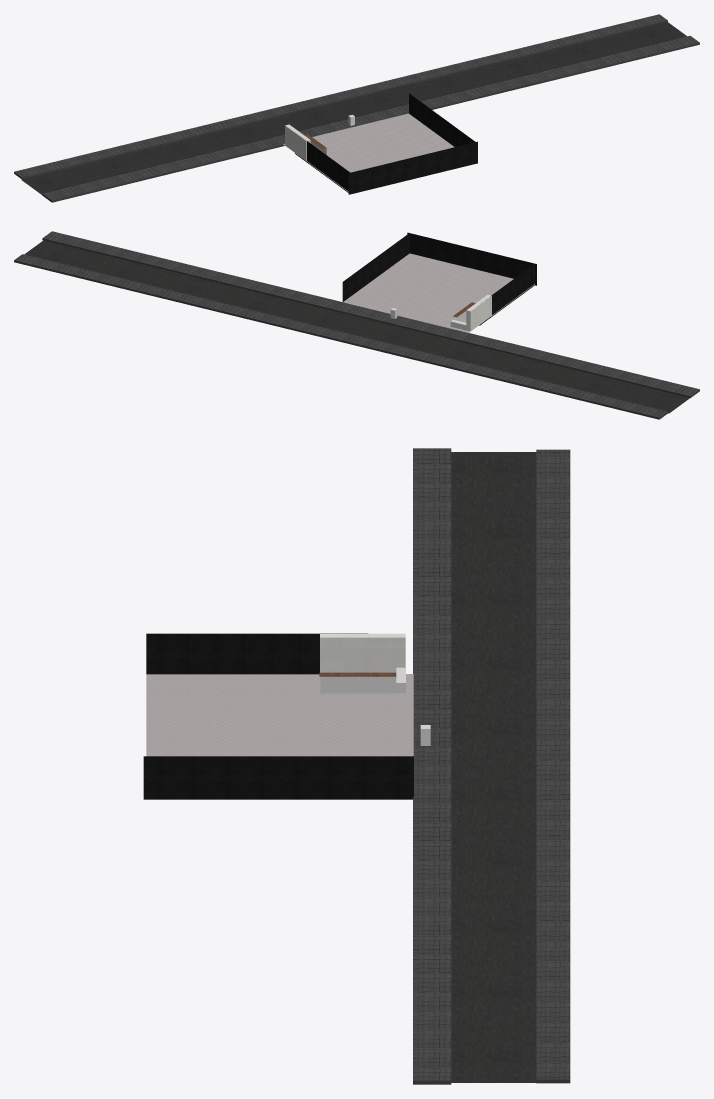
File: Sin_nombre.fbx
The picture shows the model from 3 angles, top to bottom: view 1: azimuth 30°, elevation 25°; view 2: azimuth 150°, elevation 25°; view 3: azimuth 270°, elevation 25°; orthographic projection. The views are drawn at different scales.
Visible parts, largest first — view 1: Calle, Bereda definitiva, La misma bereda, Piso Carre, Pared Negra.002, Pared Negra.001, Pared Negra, Pared blanca; view 2: Calle, Bereda definitiva, La misma bereda, Piso Carre, Pared Negra.002, Pared Negra.001, Pared Negra, Pared blanca; view 3: Calle, Bereda definitiva, La misma bereda, Piso Carre, Pared Negra.001, Pared Negra, Pared blanca, Cosa.
Part boxes in pixels (left/top/right/bottom): Calle: left=22, top=22, right=686, bottom=194; Bereda definitiva: left=42, top=35, right=699, bottom=202; La misma bereda: left=14, top=14, right=667, bottom=179; Piso Carre: left=283, top=113, right=454, bottom=191; Pared Negra.002: left=348, top=141, right=477, bottom=194; Pared Negra.001: left=409, top=93, right=476, bottom=163; Pared Negra: left=295, top=140, right=350, bottom=193; Pared blanca: left=285, top=124, right=310, bottom=160; Calle: left=24, top=240, right=689, bottom=413; Bereda definitiva: left=42, top=231, right=699, bottom=397; La misma bereda: left=14, top=254, right=667, bottom=419; Piso Carre: left=343, top=253, right=534, bottom=332; Pared Negra.002: left=407, top=232, right=536, bottom=285; Pared Negra.001: left=342, top=233, right=409, bottom=301; Pared Negra: left=479, top=264, right=534, bottom=325; Pared blanca: left=466, top=294, right=491, bottom=331; Calle: left=451, top=452, right=536, bottom=1082; Bereda definitiva: left=413, top=448, right=451, bottom=1084; La misma bereda: left=536, top=449, right=570, bottom=1083; Piso Carre: left=146, top=674, right=413, bottom=756; Pared Negra.001: left=143, top=756, right=413, bottom=799; Pared Negra: left=146, top=633, right=367, bottom=674; Pared blanca: left=320, top=633, right=405, bottom=677; Cosa: left=320, top=676, right=396, bottom=693.
Size of the model in its own units: 30331 by 999 by 8642.
